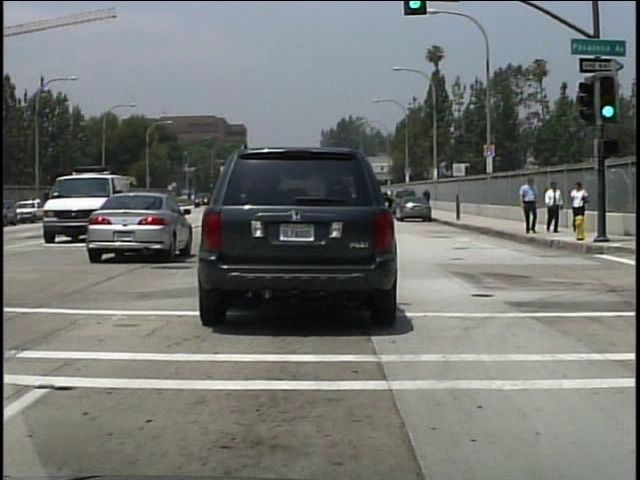person: (518, 176, 540, 237), (543, 180, 564, 234), (567, 180, 589, 216), (422, 187, 433, 212)
